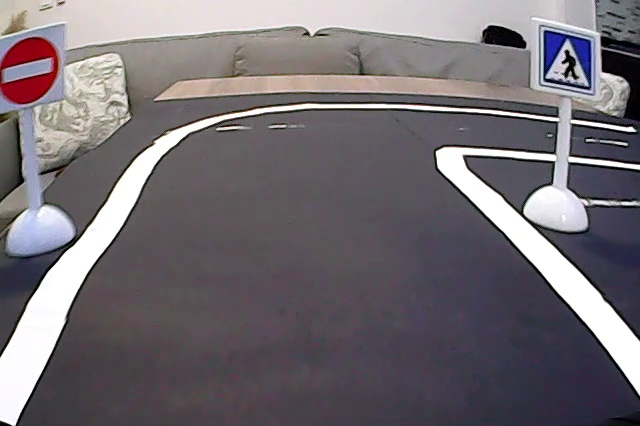do not enter: (3, 34, 65, 107)
pedestrian crossing: (534, 20, 596, 97)
